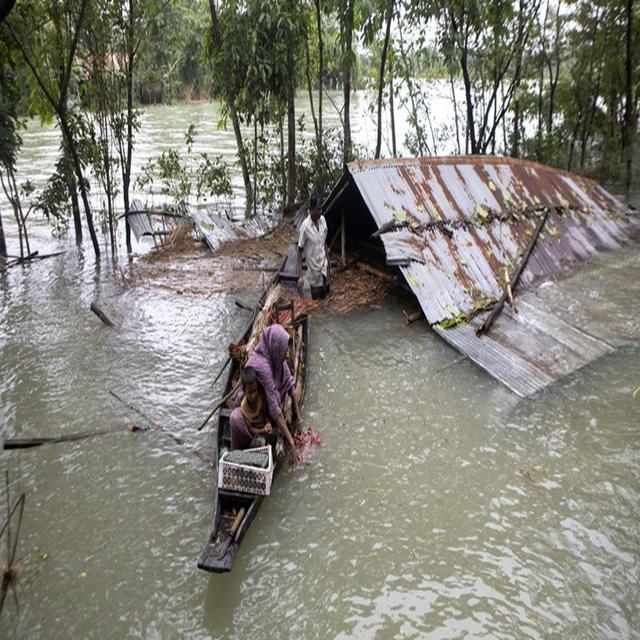Person-RiskLevel3: (222, 314, 308, 469), (286, 173, 343, 303)
